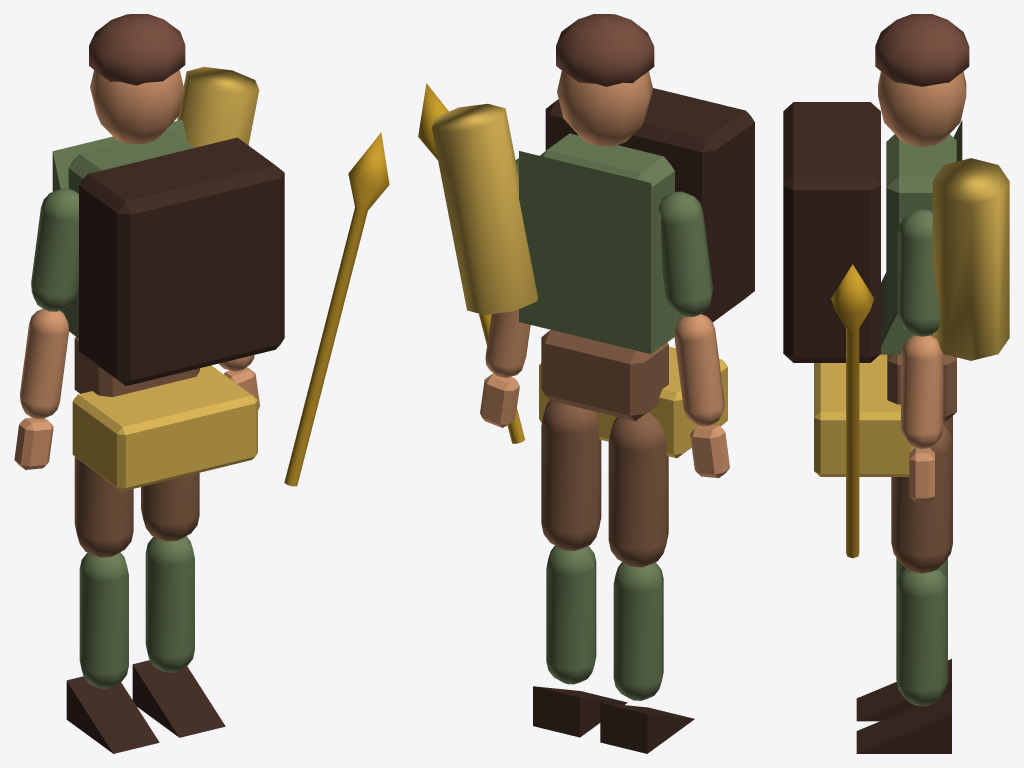
File: adventurer.rustic.glb
3 views of the same model, side by side, from view 1: azimuth 30°, elevation 25°; view 2: azimuth 150°, elevation 25°; view 3: azimuth 270°, elevation 25° (orthographic).
Visible parts, largest first — view 1: accessory.body, accessory.waist, shin.right, shin.left, accessory.main-hand, hair, accessory.back, upper-arm.left, head, foot.left, foot.right, thigh.left (+6 smaller); view 2: tunic, accessory.body, accessory.back, pelvis, thigh.left, thigh.right, shin.right, shin.left, hair, upper-arm.left, head, forearm.left (+8 smaller); view 3: accessory.body, accessory.back, accessory.waist, shin.right, thigh.right, hair, torso, accessory.main-hand, head, upper-arm.right, forearm.right, foot.right (+4 smaller).
Boxes of the visible parts, x1,y1,x2,y2 form: accessory.body: (79,137,284,385); accessory.waist: (72,365,257,491); shin.right: (145,536,194,672); shin.left: (79,552,128,688); accessory.main-hand: (284,132,389,486); hair: (89,14,185,85); accessory.back: (177,67,259,147); upper-arm.left: (31,188,78,311); head: (90,70,184,144); foot.left: (66,676,159,753); foot.right: (132,660,225,737); thigh.left: (74,456,133,557); tunic: (519,151,683,353); accessory.body: (545,88,754,321); accessory.back: (431,103,538,314); pelvis: (541,330,668,421); thigh.left: (608,412,668,567); thigh.right: (541,400,601,550); shin.right: (546,545,596,684); shin.left: (613,562,663,700); hair: (556,14,654,86); upper-arm.left: (658,191,712,317); head: (557,71,652,146); forearm.left: (674,314,724,426); accessory.body: (783,102,880,362); accessory.back: (932,158,1009,360); accessory.waist: (814,354,914,476); shin.right: (896,569,947,706); thigh.right: (891,424,952,573); hair: (875,14,969,86); torso: (886,134,956,324); accessory.main-hand: (831,264,874,558); head: (878,71,966,146); upper-arm.right: (897,209,939,336); forearm.right: (901,335,943,448); foot.right: (856,691,951,753).
Size of the model in its own units: 1.53 by 3.03 by 0.88.
